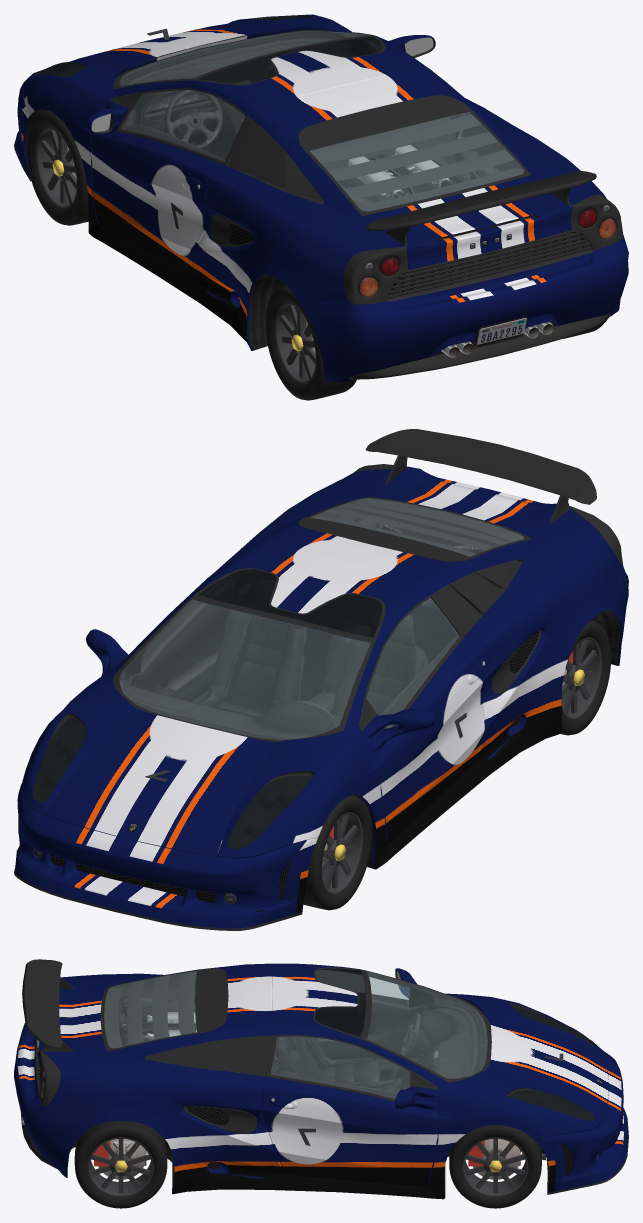
The model's file is saba.glb.
3 renders of one model, top to bottom at view 1: azimuth 30°, elevation 25°; view 2: azimuth 150°, elevation 25°; view 3: azimuth 270°, elevation 25°, orthographic. The views are drawn at different scales.
Visible parts, largest first — view 1: Body, Bumper_R, Trunk, Door_FL, Interior, Rear_Glass, Window_FL, Windshield, Hood, Tire_FL, Tire_RL, Rim_FL (+7 smaller); view 2: Body, Interior, Windshield, Bumper_F, Hood, Trunk, Door_FL, Door_FR, Rear_Glass, Window_FL, Tire_FL, Headlight_L (+7 smaller); view 3: Body, Door_FR, Interior, Trunk, Windshield, Hood, Bumper_F, Rear_Glass, Window_FR, Door_FL, Bumper_R, Tire_RR (+10 smaller).
Part boxes in pixels (box(x1,y1,x2,y2)): Body: box(23, 14, 623, 353); Bumper_R: box(303, 235, 628, 382); Trunk: box(208, 68, 599, 253); Door_FL: box(90, 80, 259, 275); Interior: box(113, 29, 450, 187); Rear_Glass: box(310, 112, 523, 211); Window_FL: box(121, 90, 245, 160); Windshield: box(119, 31, 368, 85); Hood: box(69, 22, 274, 66); Tire_FL: box(26, 110, 88, 225); Tire_RL: box(265, 285, 356, 400); Rim_FL: box(35, 127, 76, 209); Body: box(22, 429, 623, 869); Interior: box(113, 568, 505, 741); Windshield: box(119, 599, 370, 739); Bumper_F: box(14, 773, 317, 930); Hood: box(45, 708, 275, 856); Trunk: box(210, 466, 599, 645); Door_FL: box(359, 583, 493, 844); Door_FR: box(112, 544, 259, 705); Rear_Glass: box(310, 498, 523, 556); Window_FL: box(366, 598, 459, 728); Tire_FL: box(303, 795, 372, 910); Headlight_L: box(227, 775, 312, 848); Body: box(22, 959, 602, 1199); Door_FR: box(260, 1026, 439, 1187); Interior: box(190, 967, 491, 1092); Trunk: box(39, 963, 271, 1089); Windshield: box(367, 971, 487, 1078); Hood: box(486, 1016, 609, 1118); Bumper_F: box(536, 1047, 628, 1194); Rear_Glass: box(104, 971, 196, 1047); Window_FR: box(271, 1036, 409, 1098); Door_FL: box(274, 963, 426, 1064); Bumper_R: box(14, 1023, 89, 1177); Tire_RR: box(74, 1121, 167, 1208).
Size of the model in its own units: 2.3 by 1.32 by 4.52.
Materials: 20 (7 with a texture image).
